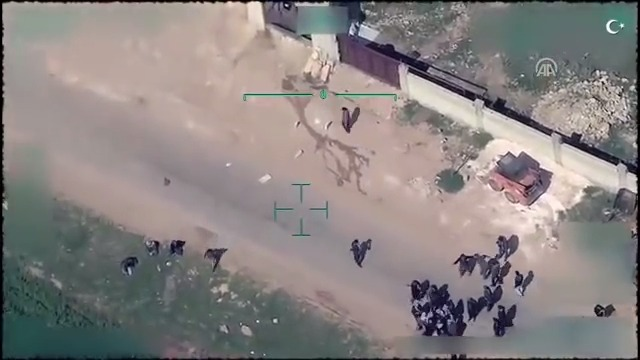arac: (468, 135, 551, 208)
insan: (202, 242, 229, 279), (332, 102, 356, 135), (453, 242, 474, 276), (348, 234, 362, 270), (495, 230, 513, 257), (516, 266, 527, 296)
